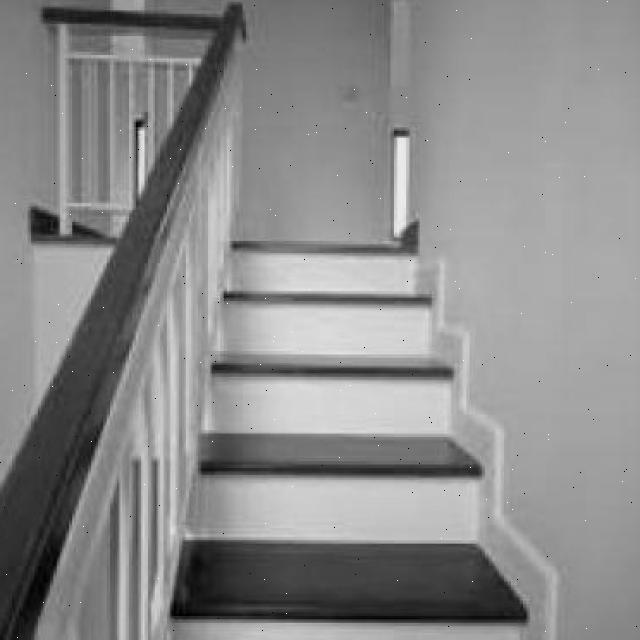stair: (174, 361, 535, 640)
